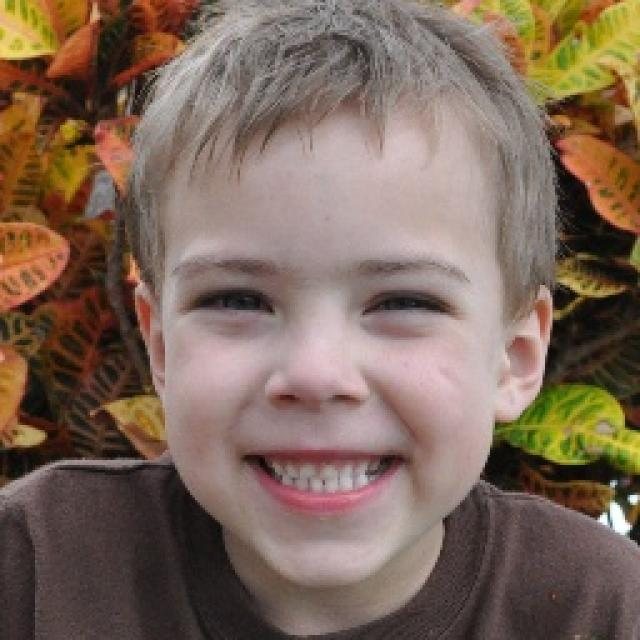earlobe: (493, 284, 554, 425), (133, 284, 168, 401)
